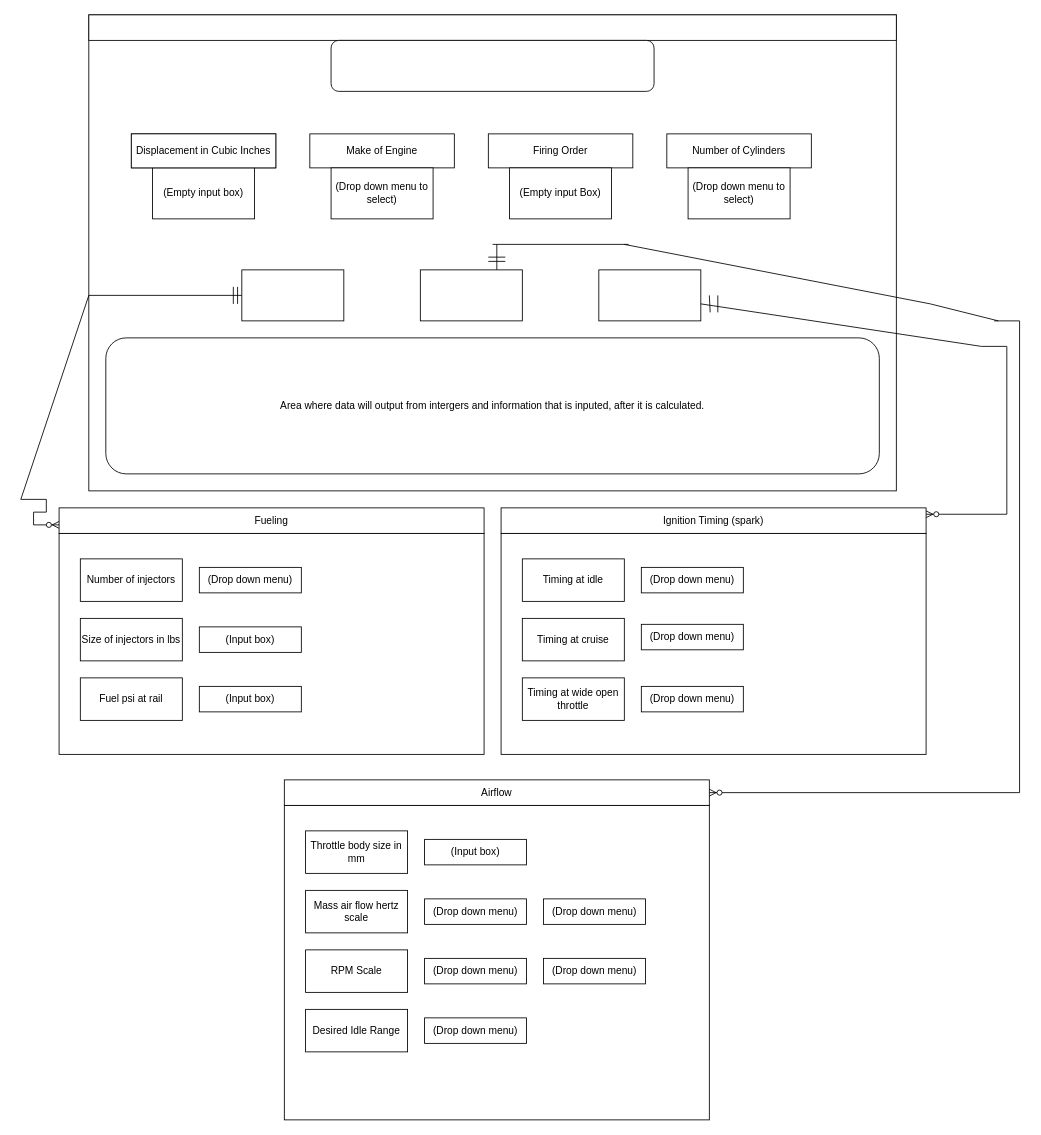
The diagram is 1041 pixels wide and 1135 high, and some of its shapes have lost their labels. The centre of each missing label's shape, as x and y in pixels:
"Airflow (Selection box to open window)" belongs at (470,295).
"Automotive Engine Tuning Program" belongs at (492,27).
"Fueling (Selection box to open window)" belongs at (292,295).
"Spark (Selection box to open window)" belongs at (649,295).
"Welcome to our tuning program Thanks for choosen Root Tuning!" belongs at (492,65).
